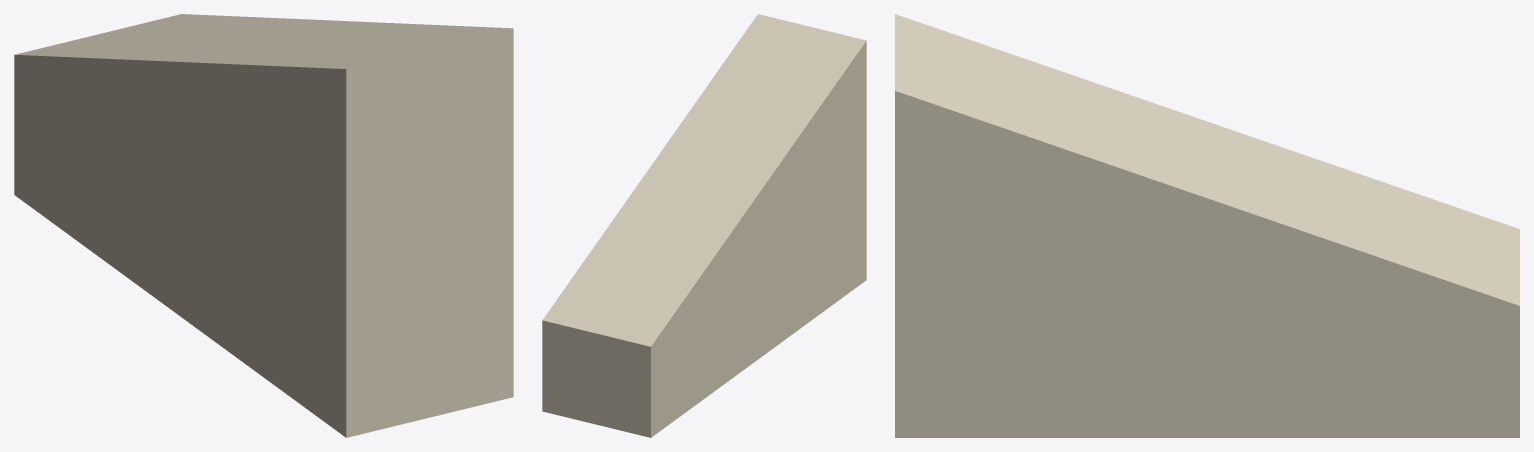
The picture shows the model from 3 angles, left to right: view 1: azimuth 30°, elevation 25°; view 2: azimuth 150°, elevation 25°; view 3: azimuth 270°, elevation 25°; orthographic projection. The views are drawn at different scales.
Visible parts, largest first — view 1: A-ROOF-INFILL-02; view 2: A-ROOF-INFILL-02; view 3: A-ROOF-INFILL-02.
Boxes of the visible parts, box(x1,y1,x2,y2) form: A-ROOF-INFILL-02: box(14, 14, 513, 437); A-ROOF-INFILL-02: box(542, 14, 866, 437); A-ROOF-INFILL-02: box(895, 14, 1519, 437).
Size of the model in its own units: 0.16 by 0.3372 by 0.55.
